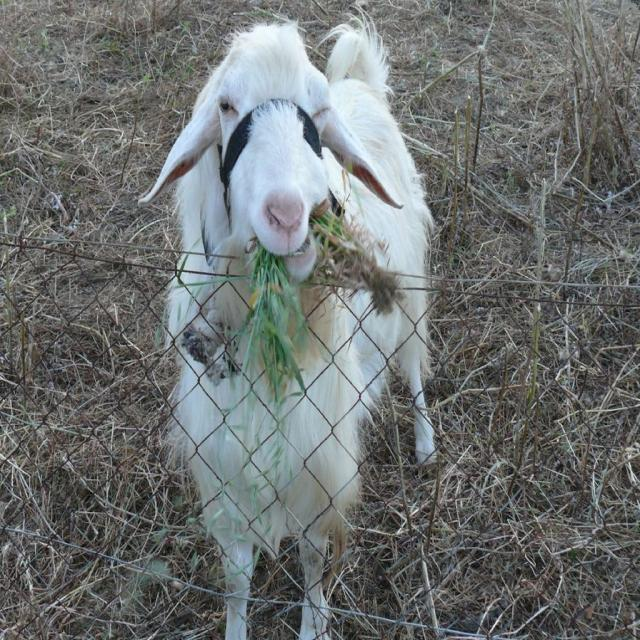Goat: (138, 14, 438, 639)
